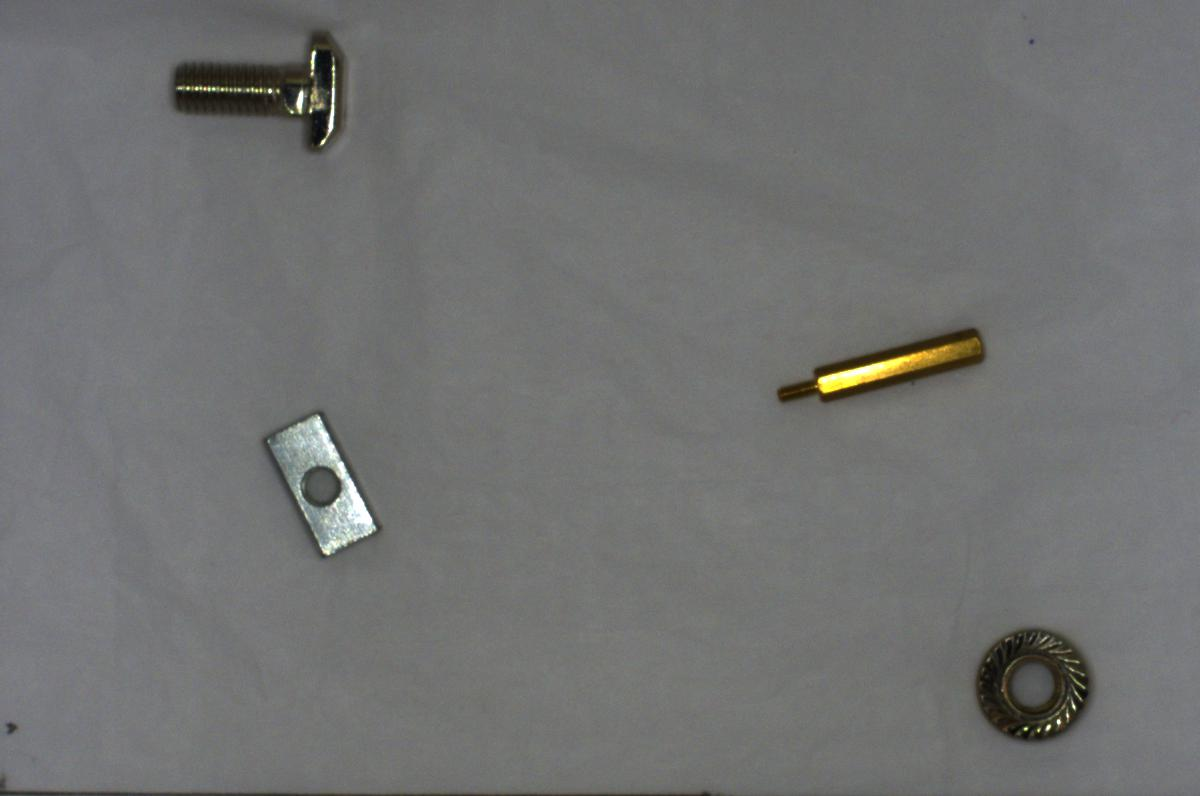Flange nut: (968, 615, 1102, 752)
Hexagon pillar: (773, 322, 992, 416)
Rectangular nut: (248, 405, 387, 573)
T-shaped screw: (164, 23, 355, 161)
